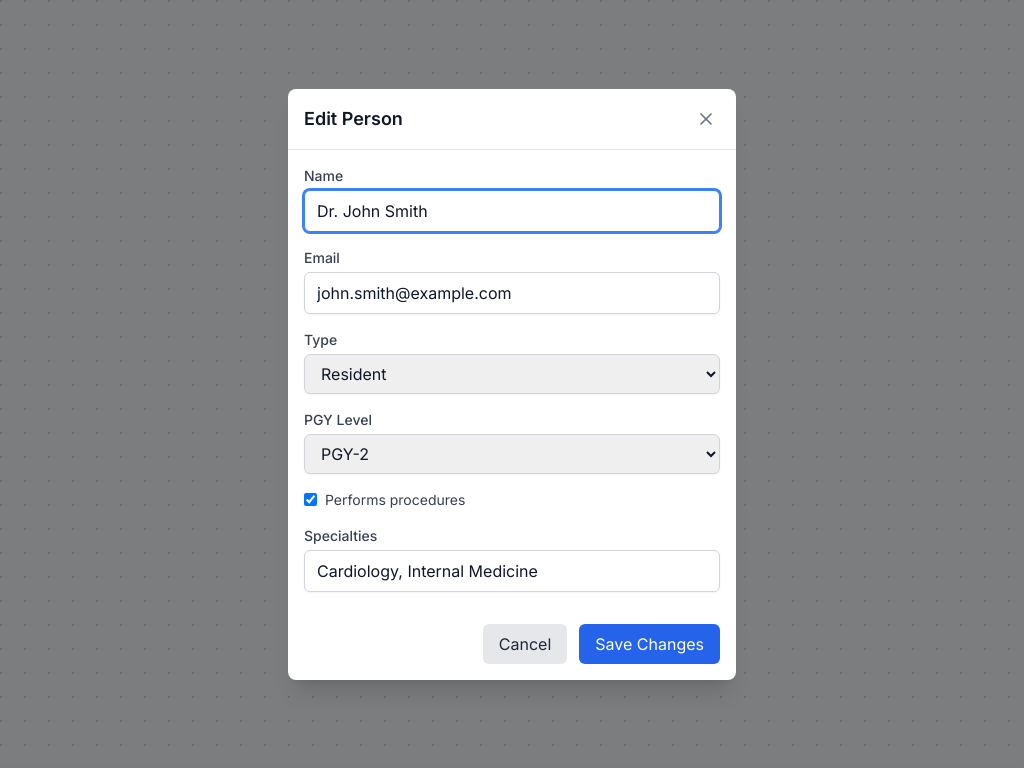
Test: EditPersonModal › Form Submission › should show error message on submission failure
Click the button "Save Changes" at (650, 644), box [579,624,720,664]
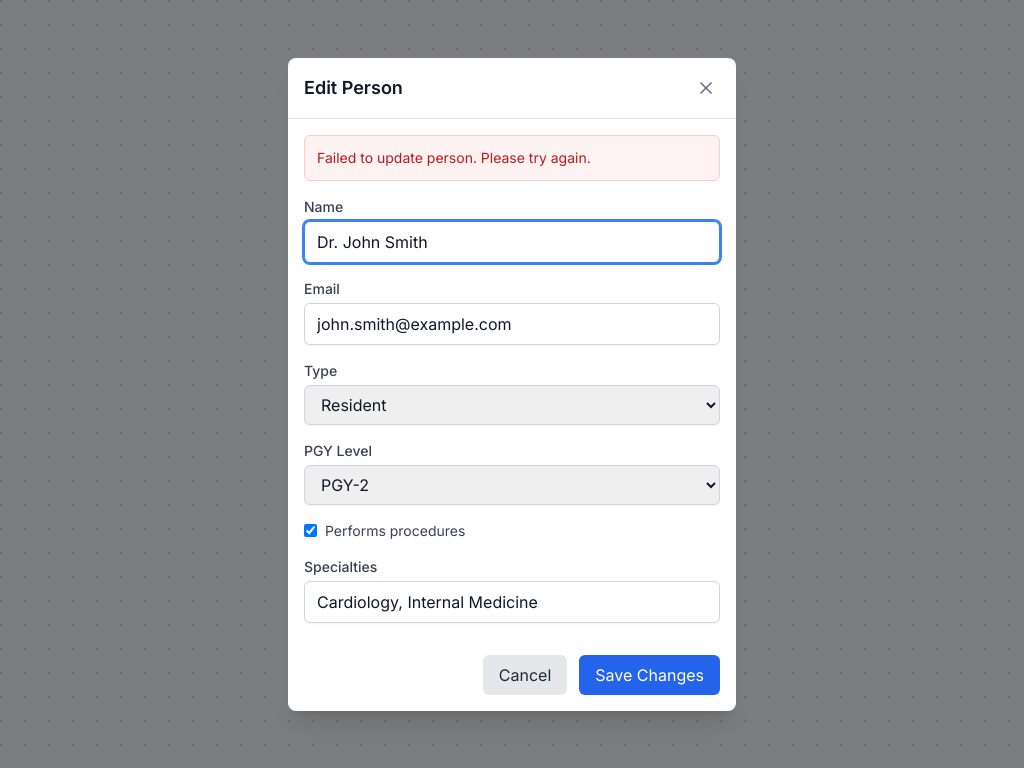
Result: the text "Failed to update person. Please try again." is shown at [304,134,720,180]
